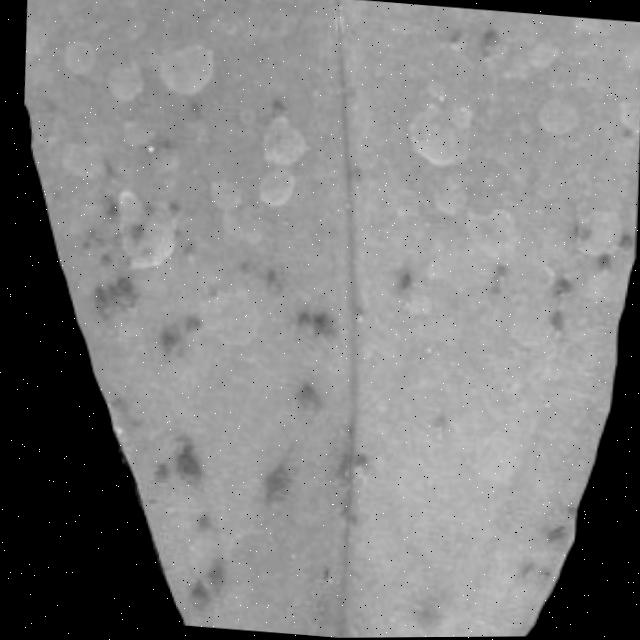mite: (106, 184, 177, 271), (401, 93, 474, 170), (153, 37, 215, 99), (530, 94, 579, 141), (165, 440, 198, 486), (475, 24, 500, 55), (535, 519, 562, 547)
spots: (14, 0, 640, 638)
